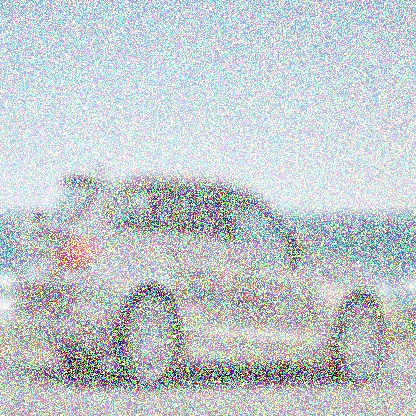Vehicle: (15, 165, 393, 389)
